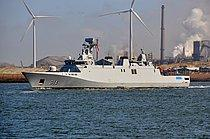MIL_Ship: (21, 37, 191, 90)
